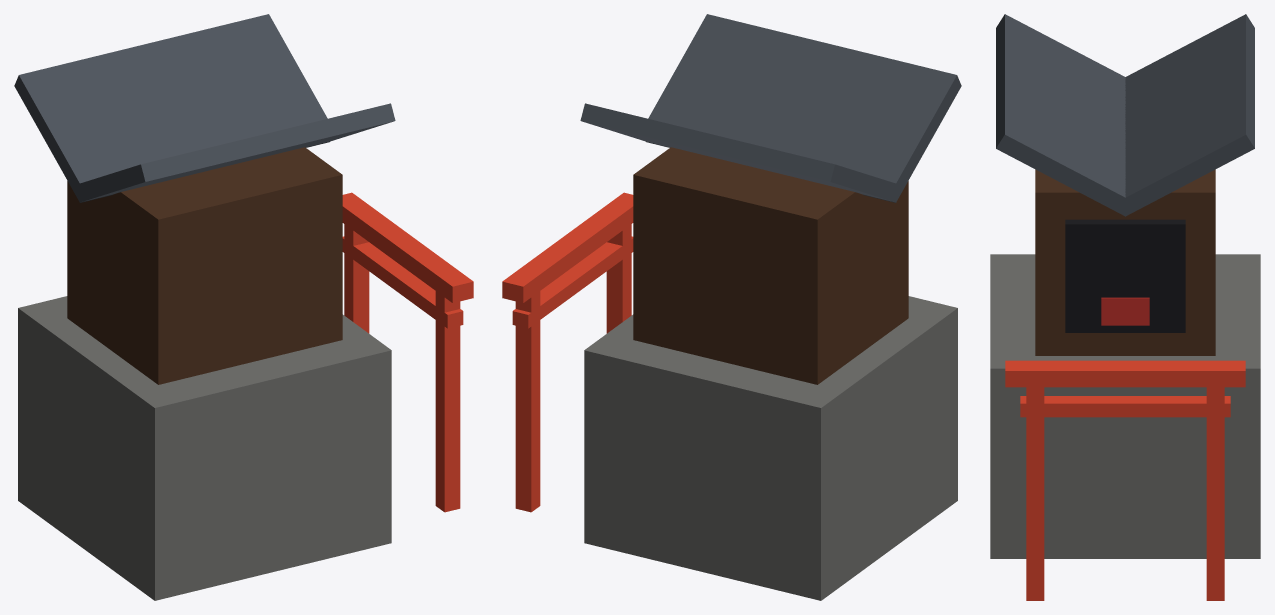
File: hokora.glb
3 views of the same model, side by side, from view 1: azimuth 30°, elevation 25°; view 2: azimuth 150°, elevation 25°; view 3: azimuth 270°, elevation 25° (orthographic).
Visible parts, largest first — view 1: hokora; view 2: hokora; view 3: hokora.
Part boxes in pixels (box(x1,y1,x2,y2)): hokora: box(14, 14, 473, 600); hokora: box(502, 14, 961, 600); hokora: box(990, 14, 1260, 600).
Size of the model in its own units: 1.27 by 1.57 by 0.9.
